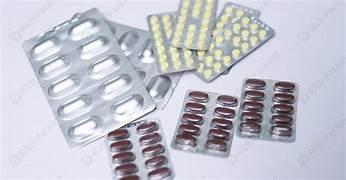pill_Strip: (23, 8, 154, 147), (107, 21, 182, 108), (194, 3, 274, 81), (171, 90, 238, 156), (105, 118, 174, 179), (236, 79, 298, 141), (147, 13, 195, 73), (170, 0, 216, 49), (175, 110, 224, 155), (212, 3, 258, 48), (213, 2, 260, 36), (213, 2, 260, 35), (48, 74, 80, 97), (29, 37, 60, 60), (38, 56, 69, 78), (80, 37, 107, 59), (226, 2, 260, 18), (71, 20, 97, 40), (273, 93, 293, 103), (244, 90, 264, 99), (222, 66, 231, 74)
